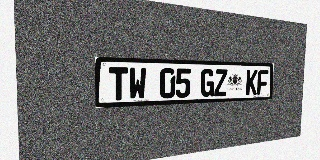0: (159, 68, 176, 99)
5: (176, 68, 191, 98)
F: (257, 70, 268, 95)
G: (200, 69, 214, 97)
K: (246, 70, 258, 95)
T: (109, 67, 128, 101)
W: (129, 67, 146, 100)
Z: (214, 69, 227, 96)
